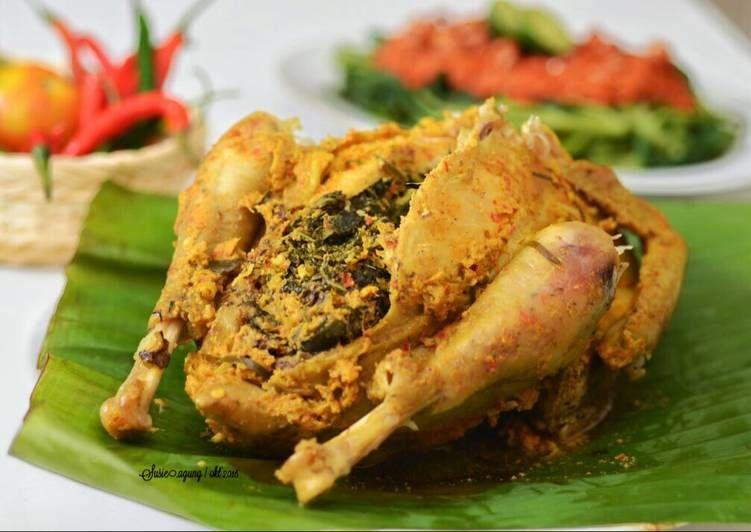ayam_betutu: (101, 98, 688, 507)
